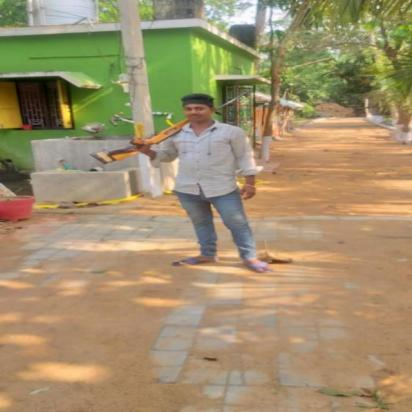Gun: (87, 86, 255, 166)
